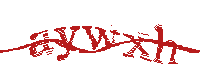a: (27, 30, 53, 56)
h: (154, 25, 178, 66)
w: (82, 23, 122, 53)
x: (126, 30, 151, 61)
y: (52, 26, 80, 64)
